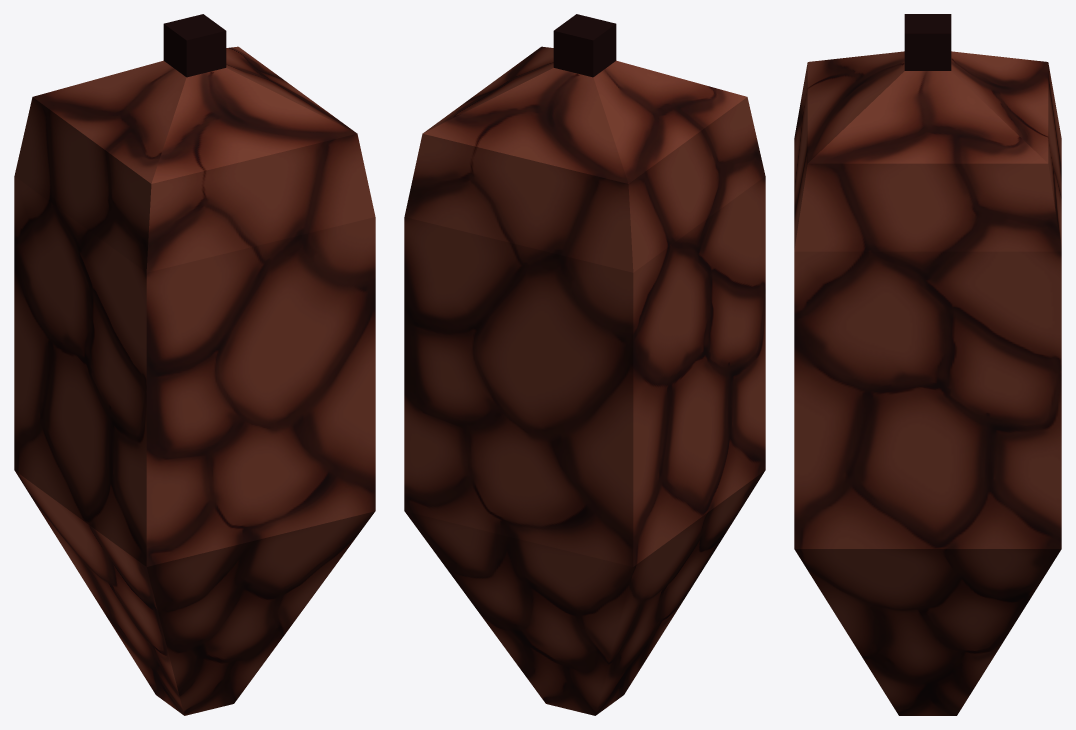
The model's file is prop_käpy.gltf.
3 renders of one model, left to right at view 1: azimuth 30°, elevation 25°; view 2: azimuth 150°, elevation 25°; view 3: azimuth 270°, elevation 25°, orthographic.
Visible parts, largest first — view 1: käpy; view 2: käpy; view 3: käpy.
Boxes of the visible parts, left/top/right/bottom form: käpy: left=14, top=14, right=375, bottom=715; käpy: left=404, top=14, right=765, bottom=715; käpy: left=794, top=14, right=1061, bottom=715.
Bounding box in the file's own units: 0.3207 × 0.9 × 0.3207.
1 material, 1 textured.
